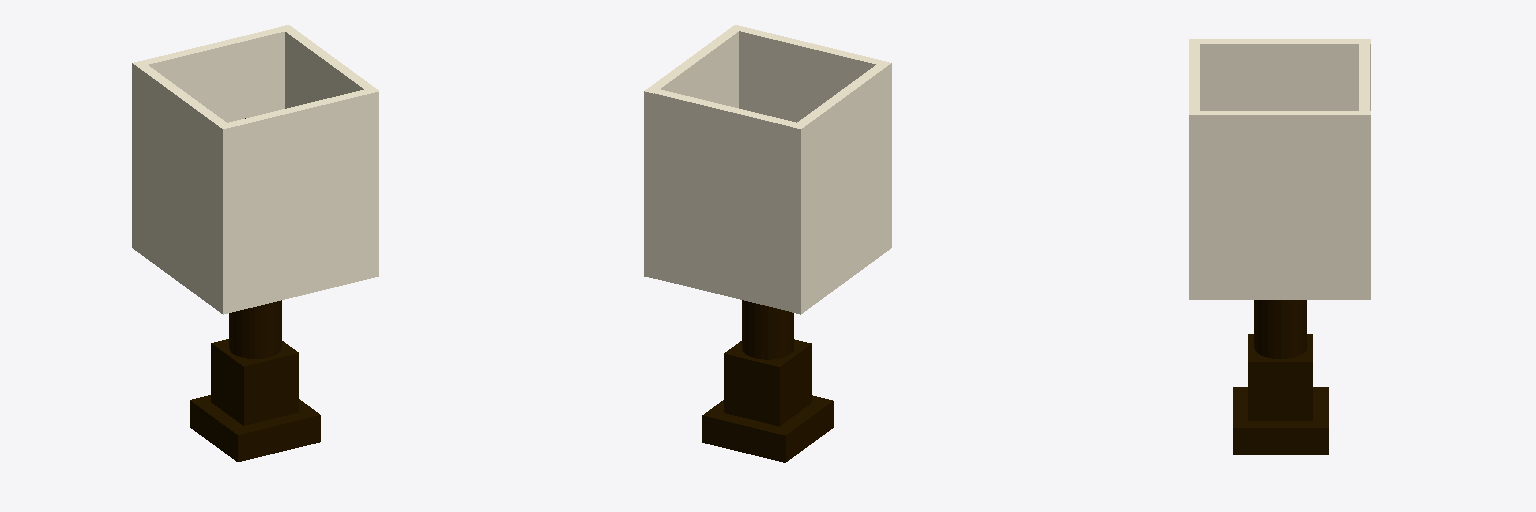
File: lamp.obj
The picture shows the model from 3 angles: view 1: azimuth 30°, elevation 25°; view 2: azimuth 150°, elevation 25°; view 3: azimuth 270°, elevation 25°; orthographic projection.
Parts seen in each view (by area): view 1: Box4, Box2, Box5, Box1, Box, Box3, Cylinder; view 2: Box5, Box2, Box4, Box1, Box3, Box, Cylinder; view 3: Box3, Box2, Box1, Box, Cylinder, Box4, Box5.
Boxes of the visible parts, x1,y1,x2,y2 form: Box4: [218, 87, 378, 314]; Box2: [132, 61, 226, 313]; Box5: [132, 25, 293, 246]; Box1: [211, 339, 298, 425]; Box: [190, 395, 320, 461]; Box3: [281, 25, 378, 108]; Cylinder: [229, 118, 281, 358]; Box5: [646, 87, 806, 312]; Box2: [791, 61, 890, 314]; Box4: [736, 25, 891, 251]; Box1: [724, 339, 811, 426]; Box3: [644, 25, 743, 278]; Box: [702, 395, 833, 462]; Cylinder: [742, 300, 793, 359]; Box3: [1190, 111, 1370, 299]; Box2: [1190, 39, 1370, 110]; Box1: [1248, 334, 1312, 420]; Box: [1233, 387, 1328, 454]; Cylinder: [1254, 300, 1306, 358]; Box4: [1189, 39, 1199, 299]; Box5: [1359, 43, 1369, 114].
Size of the model in its own units: 0.5067 by 1.1 by 0.5093.